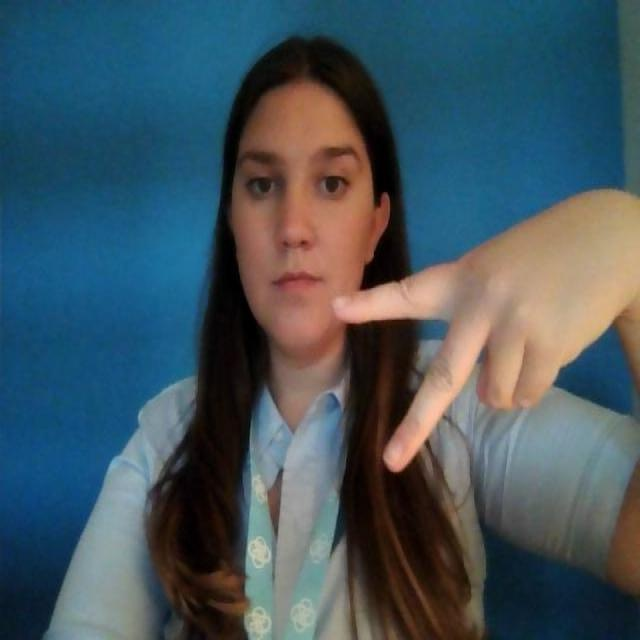Scissors: (315, 177, 636, 483)
